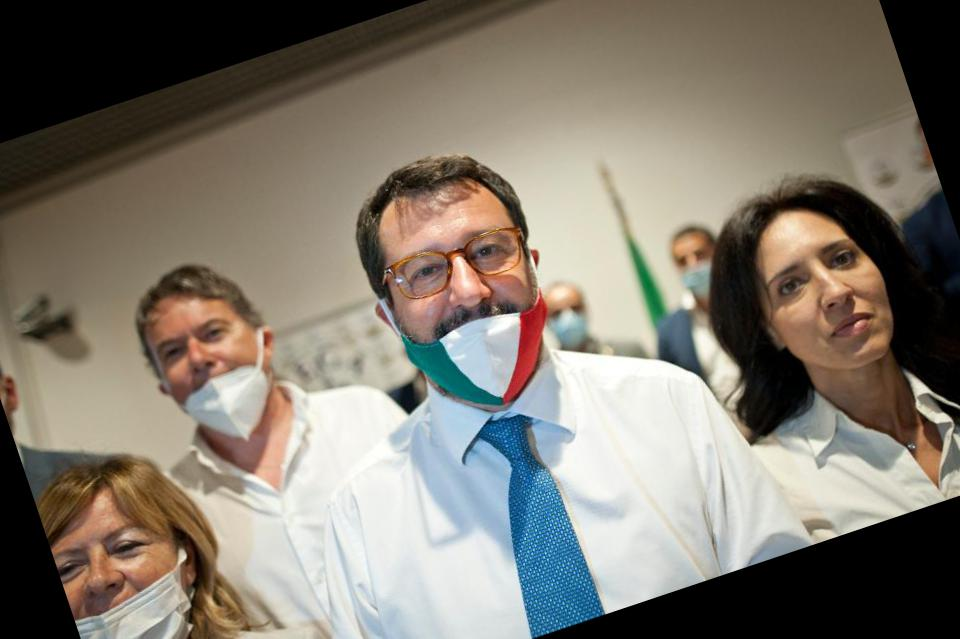mask_weared_incorrect: (382, 204, 569, 419), (141, 288, 294, 451), (54, 523, 183, 639)
with_mask: (674, 238, 723, 299), (545, 289, 592, 344)
without_mask: (756, 227, 910, 389)
